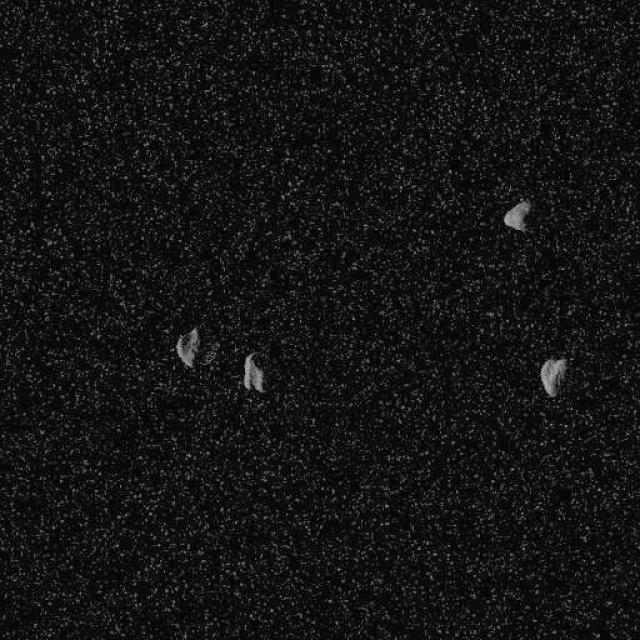D2: (538, 357, 568, 398), (175, 325, 200, 369), (501, 198, 531, 232), (242, 352, 266, 392)
